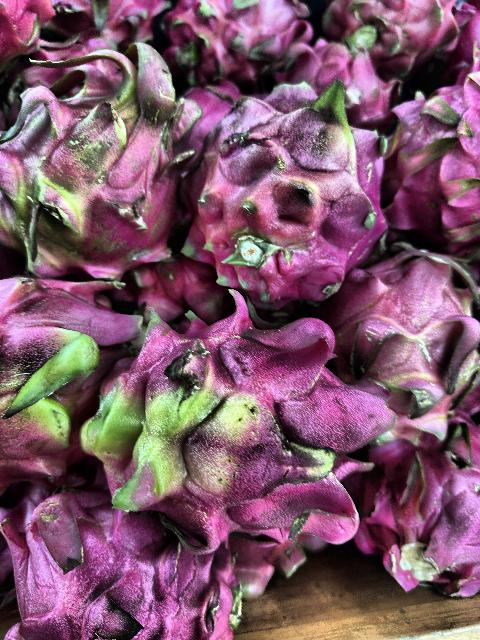buah-naga-belum-matang: (102, 303, 390, 555), (193, 72, 391, 294), (0, 47, 186, 271), (330, 243, 480, 454), (0, 261, 142, 475)
buah-naga-matang: (0, 474, 240, 640), (356, 432, 480, 600), (386, 79, 480, 243), (164, 0, 311, 80), (318, 0, 464, 72), (283, 36, 402, 124)
